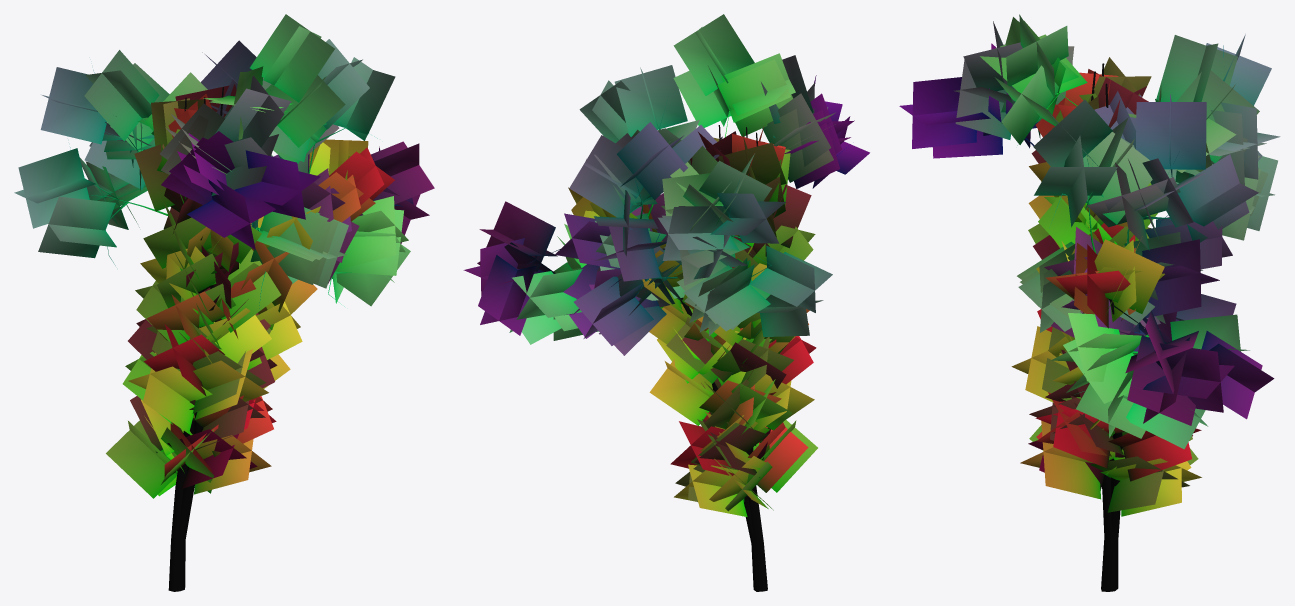
Rendered from M_P3_Tree_15.fbx.
3 views of the same model, side by side, from view 1: azimuth 30°, elevation 25°; view 2: azimuth 150°, elevation 25°; view 3: azimuth 270°, elevation 25° (orthographic). The views are drawn at different scales.
Visible parts, largest first — view 1: Tree_15; view 2: Tree_15; view 3: Tree_15.
Part boxes in pixels (x1,y1,x2,y2): Tree_15: [14, 14, 434, 591]; Tree_15: [463, 14, 869, 591]; Tree_15: [899, 14, 1280, 591].
Size of the model in its own units: 588 by 834 by 468.
